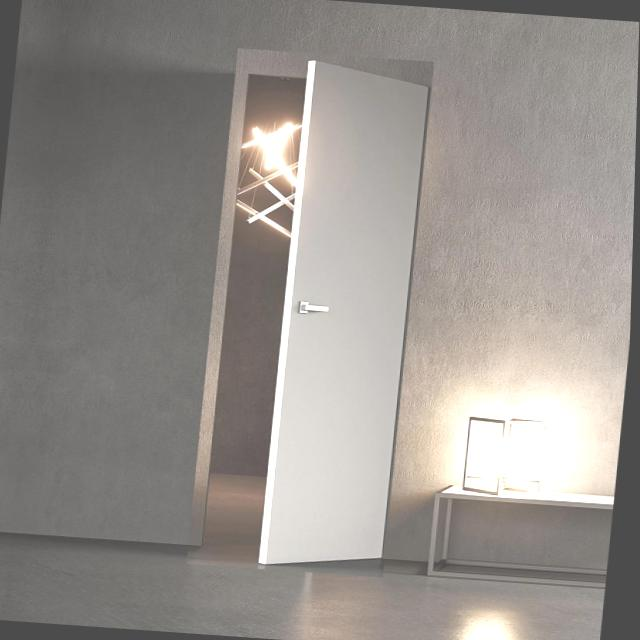semi-open: (189, 48, 435, 579)
